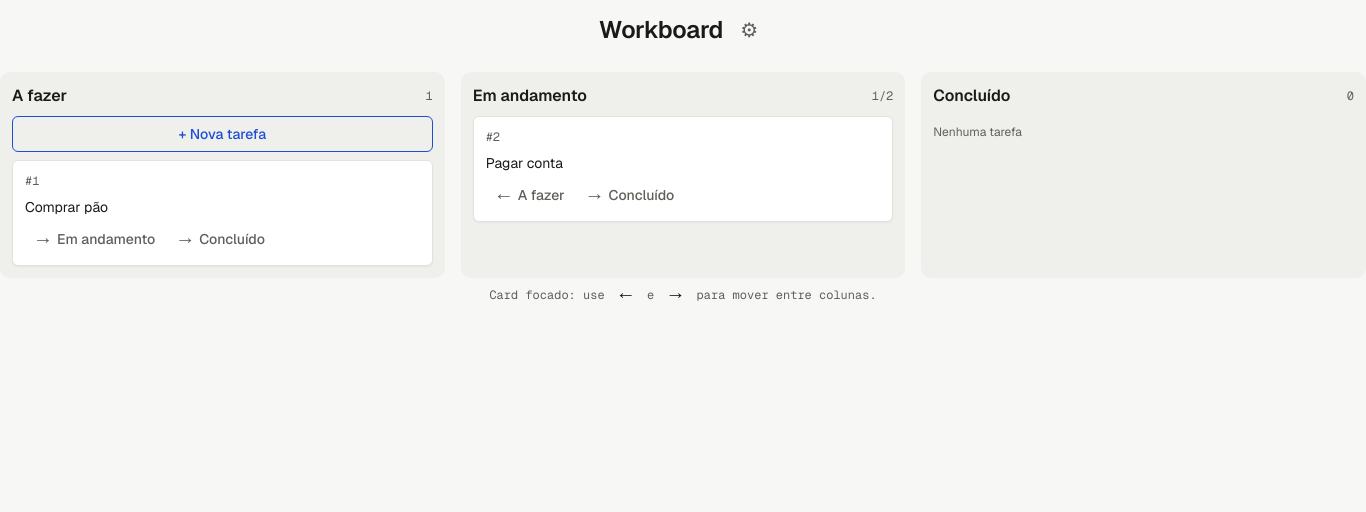
Scenario: BoardView › creates a task and shows the confirmation
Click the button "+ Nova tarefa" at coordinates (222, 134), box left=12, top=116, right=433, bottom=152
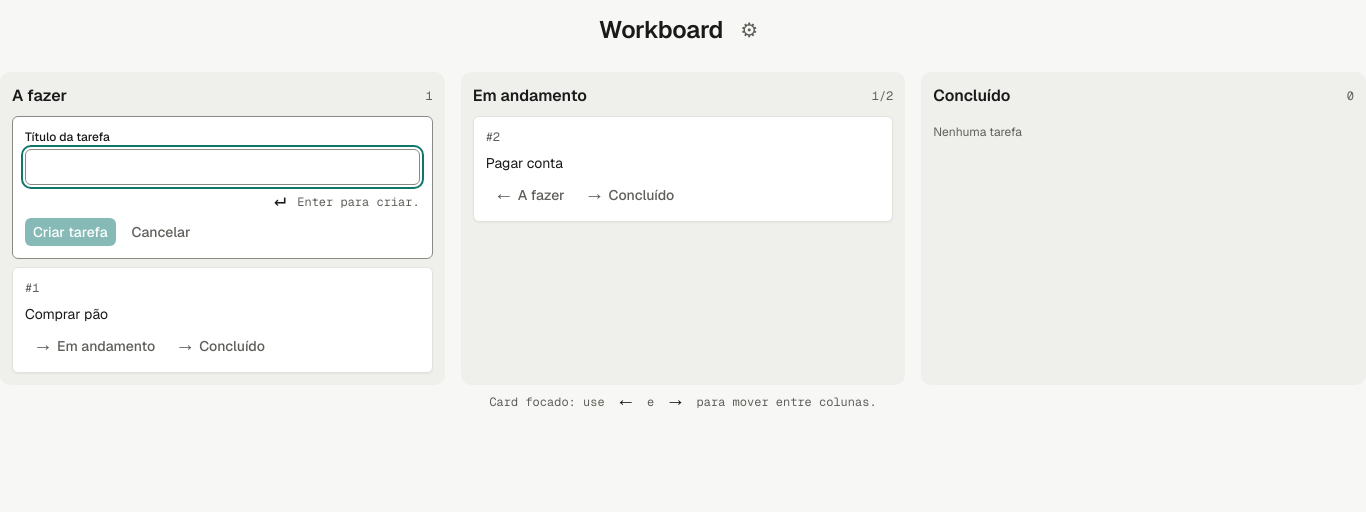
Type "Comprar leite" into the field labelled "Título da tarefa" at coordinates (222, 167), box left=25, top=149, right=420, bottom=185
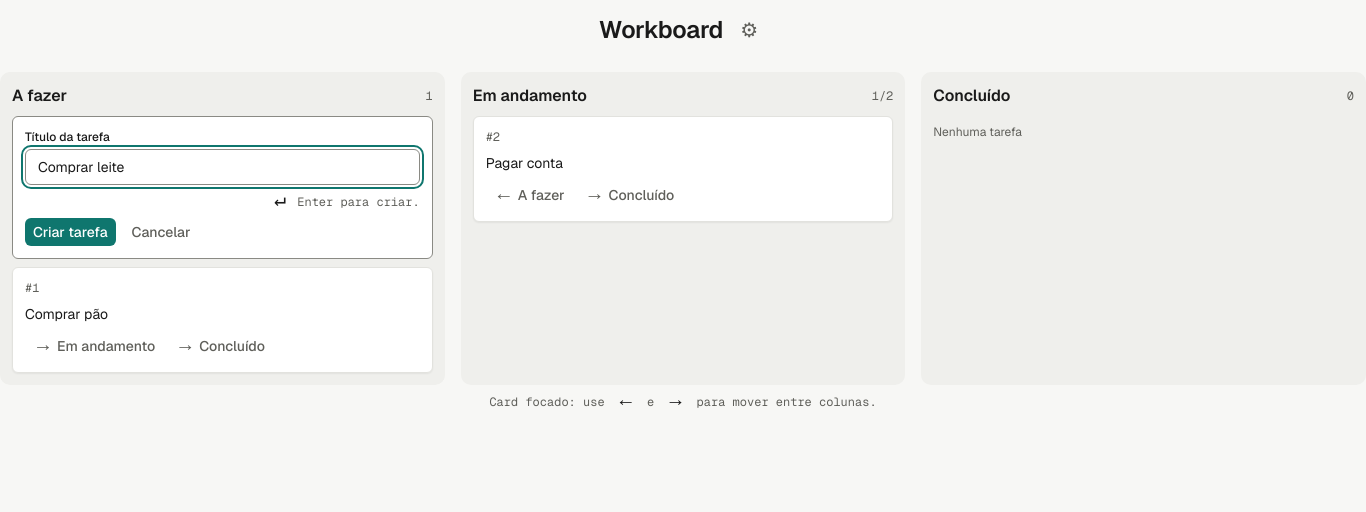
Click the button "Criar tarefa" at coordinates (70, 232), box left=25, top=218, right=116, bottom=246
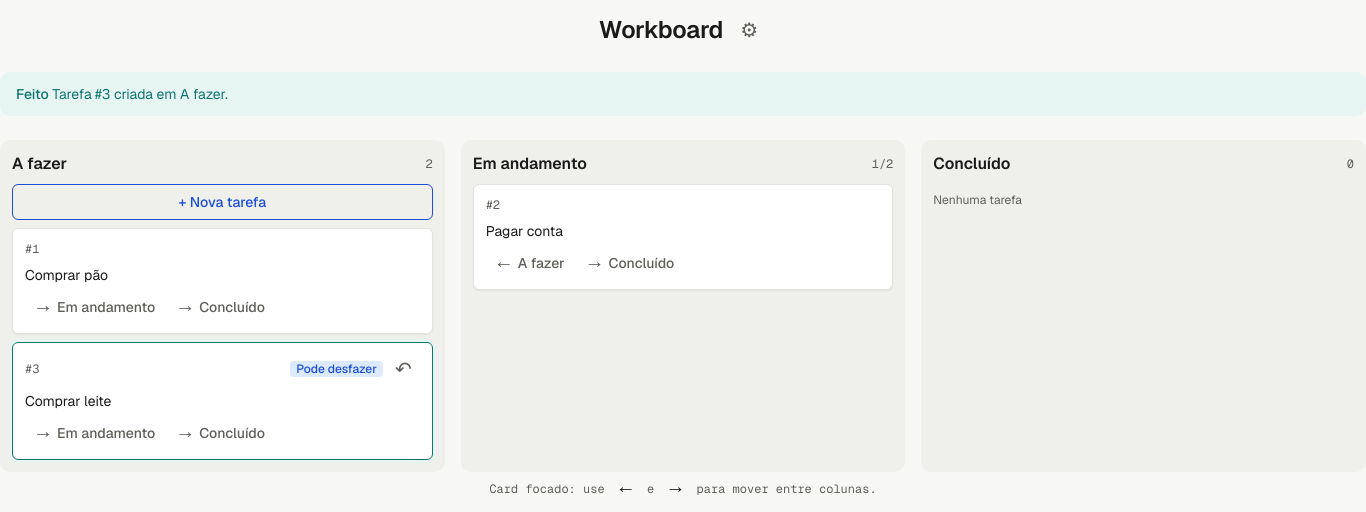
Now the message shows "Tarefa #3 criada em A fazer.", box left=52, top=85, right=228, bottom=103
Now the text "Comprar leite" is shown, box left=25, top=392, right=111, bottom=410
